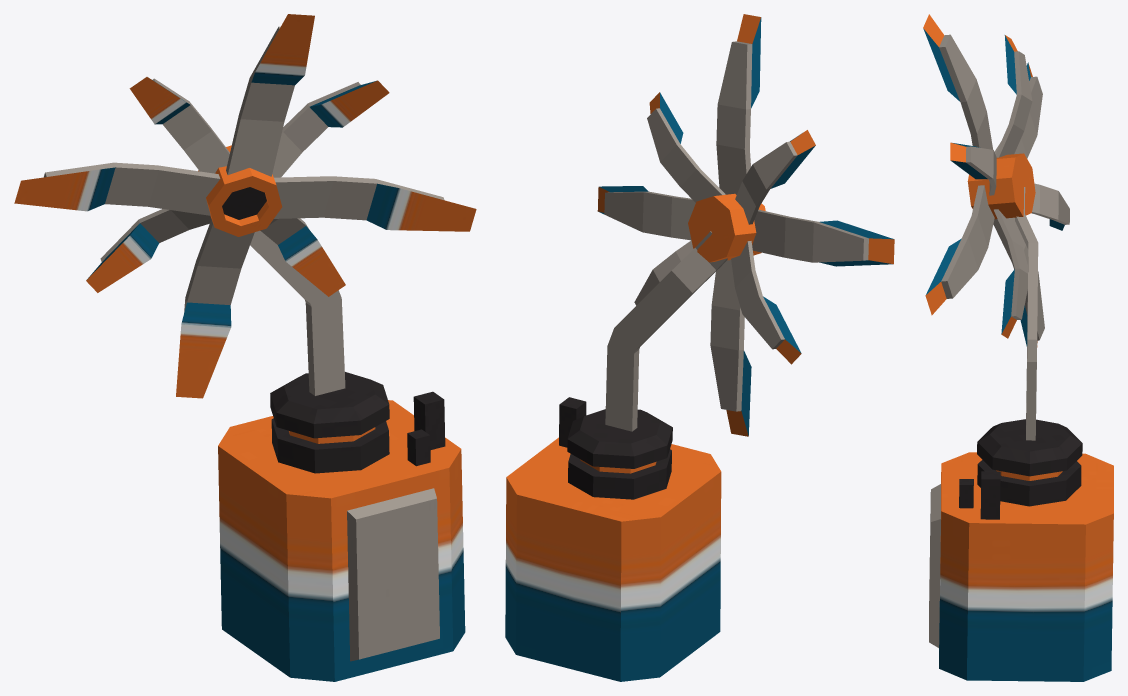
File: Radar.fbx
3 renders of one model, left to right at view 1: azimuth 30°, elevation 25°; view 2: azimuth 150°, elevation 25°; view 3: azimuth 270°, elevation 25°, orthographic. The views are drawn at different scales.
Parts seen in each view (by area): view 1: Radar; view 2: Radar; view 3: Radar.
Boxes of the visible parts, x1=… form: Radar: x1=14, y1=14, x2=476, y2=681; Radar: x1=505, y1=14, x2=894, y2=681; Radar: x1=923, y1=14, x2=1113, y2=681.
Size of the model in its own units: 65.71 by 105 by 30.92.
